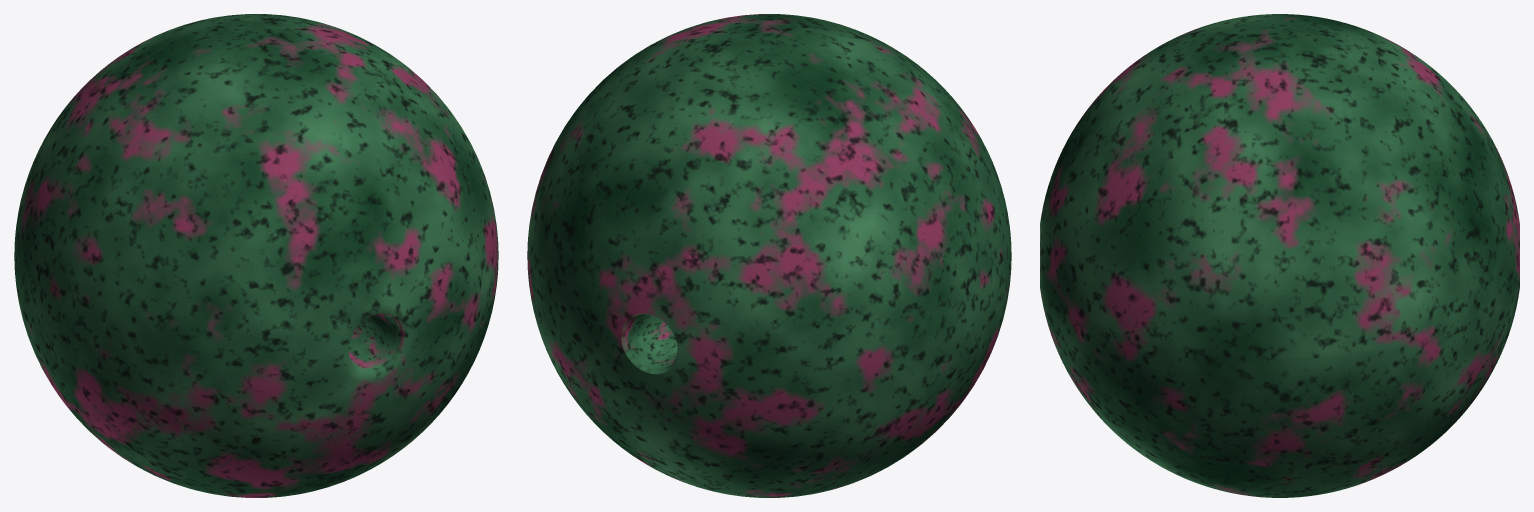
The model's file is ruby-zoisite.glb.
3 views of the same model, side by side, from view 1: azimuth 30°, elevation 25°; view 2: azimuth 150°, elevation 25°; view 3: azimuth 270°, elevation 25° (orthographic).
Parts seen in each view (by area): view 1: ruby-zoisite.001; view 2: ruby-zoisite.001; view 3: ruby-zoisite.001.
Part boxes in pixels (box(x1,y1,x2,y2)): ruby-zoisite.001: box(14, 14, 498, 497); ruby-zoisite.001: box(527, 14, 1011, 497); ruby-zoisite.001: box(1040, 14, 1519, 497).
Size of the model in its own units: 0.008 by 0.008 by 0.00793.
1 material, 1 textured.
